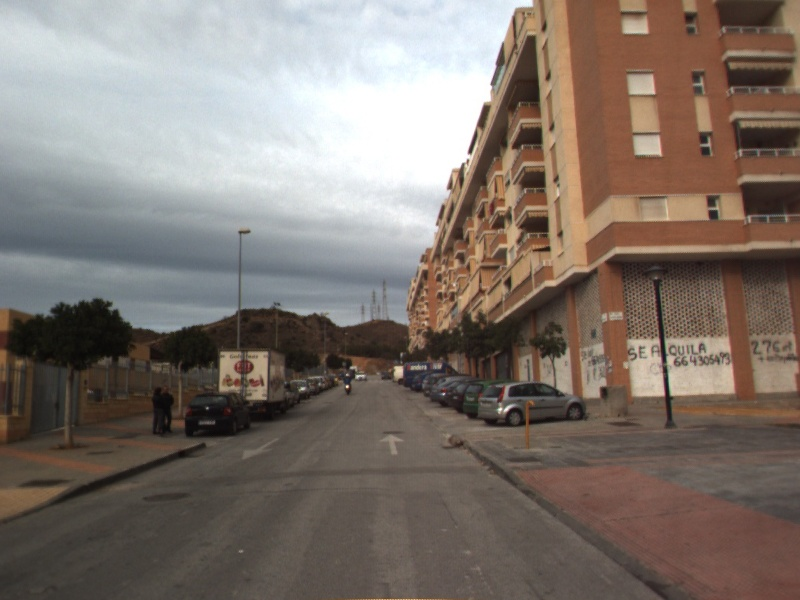STRAIGHT: (378, 432, 407, 456)
